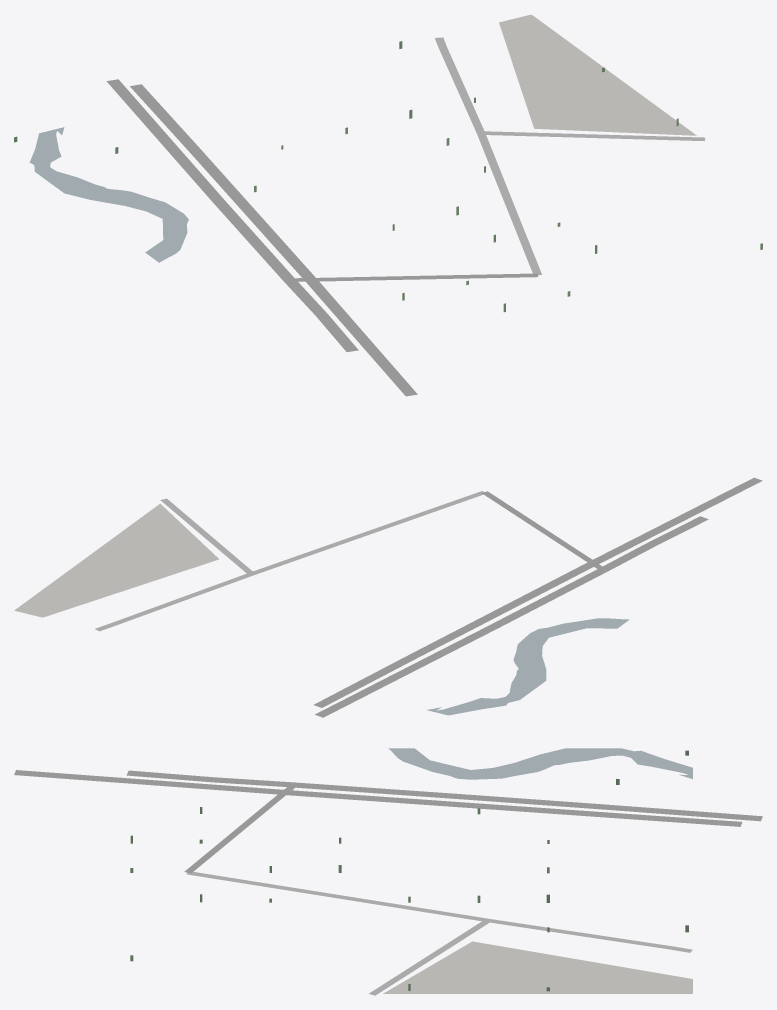
3 renders of one model, top to bottom at view 1: azimuth 30°, elevation 25°; view 2: azimuth 150°, elevation 25°; view 3: azimuth 270°, elevation 25°, orthographic. The views are drawn at different scales.
Size of the model in its own units: 504 by 8.91 by 647.
